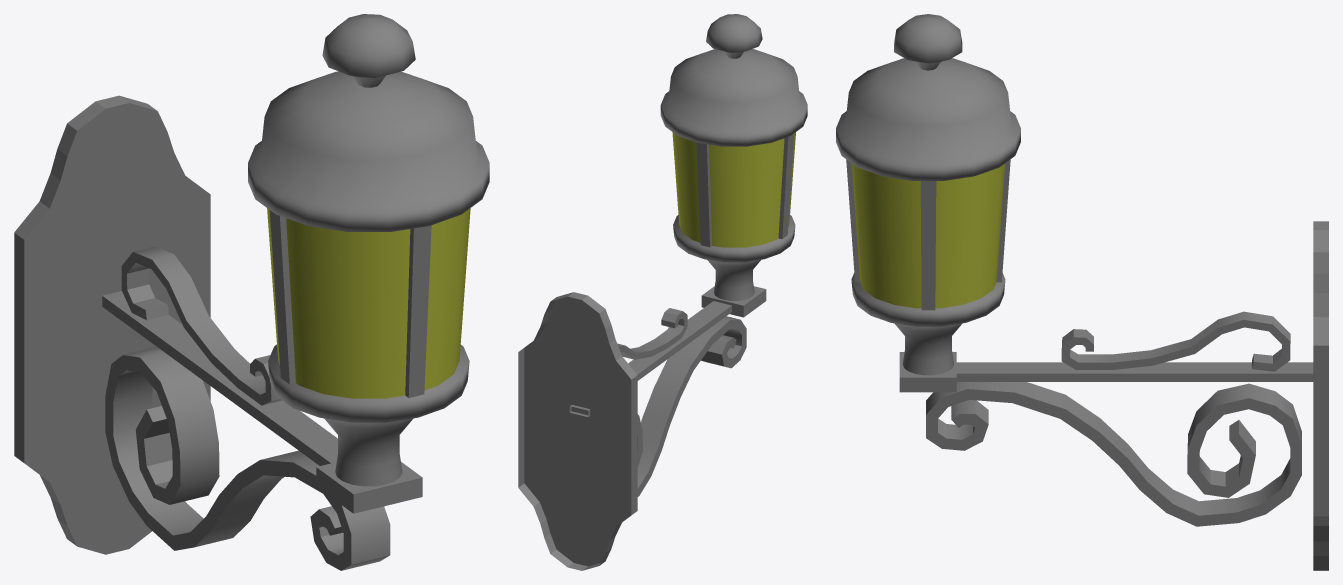
File: SM_lamp_wall_01.fbx
3 views of the same model, side by side, from view 1: azimuth 30°, elevation 25°; view 2: azimuth 150°, elevation 25°; view 3: azimuth 270°, elevation 25° (orthographic). The views are drawn at different scales.
Parts seen in each view (by area): view 1: Plane001; view 2: Plane001; view 3: Plane001.
Part boxes in pixels (bbox=[...]): Plane001: bbox=[14, 14, 489, 570]; Plane001: bbox=[518, 14, 807, 570]; Plane001: bbox=[836, 14, 1328, 570].
Bounding box in the file's own units: 14.05 × 46.65 × 38.04.
